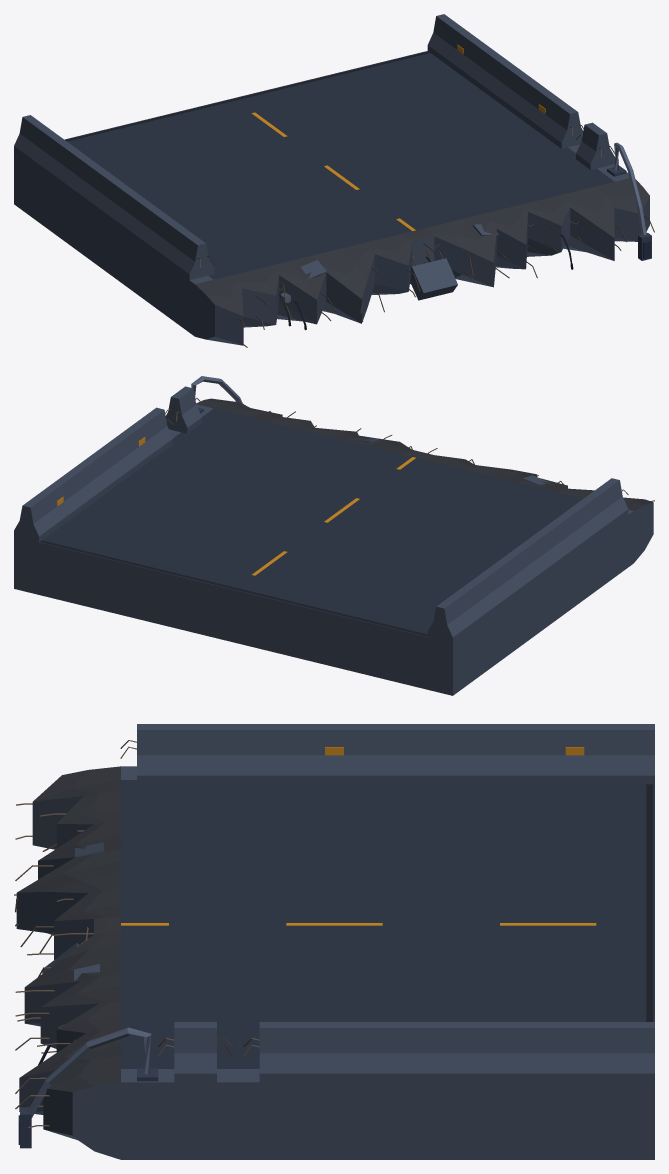
File: hw_broken_deck_end.glb
3 views of the same model, one above another, from view 1: azimuth 30°, elevation 25°; view 2: azimuth 150°, elevation 25°; view 3: azimuth 270°, elevation 25° (orthographic). The views are drawn at different scales.
Visible parts, largest first — view 1: walk_slab, torn_end, concrete, rebar, steelwork; view 2: walk_slab, concrete, torn_end; view 3: walk_slab, concrete, torn_end, rebar, steelwork, trim.
Part boxes in pixels (x1,y1,x2,y2): walk_slab: [14, 51, 629, 336]; torn_end: [195, 178, 649, 345]; concrete: [14, 14, 615, 300]; rebar: [197, 124, 654, 347]; steelwork: [280, 142, 646, 302]; walk_slab: [14, 404, 633, 695]; concrete: [14, 386, 628, 643]; torn_end: [196, 398, 653, 562]; walk_slab: [121, 766, 654, 1159]; concrete: [42, 724, 654, 1082]; torn_end: [16, 766, 120, 1159]; rebar: [14, 740, 259, 1128]; steelwork: [27, 1027, 151, 1117]; trim: [20, 1068, 158, 1148].
Bounding box in the file's own units: 14 × 2.6 × 12.
